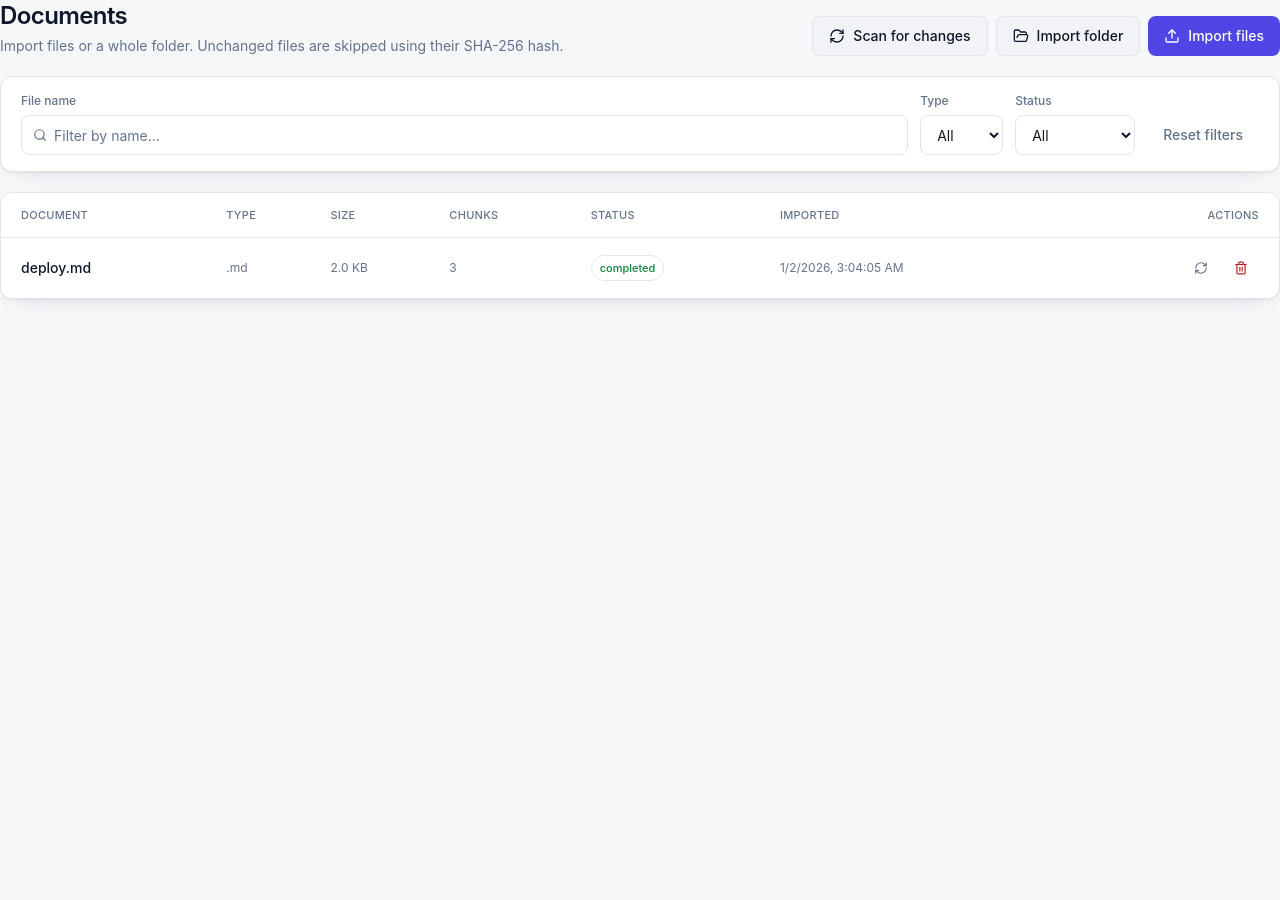
Documents page › cancelling the delete dialog keeps the document
Step 1. Click the button named "Delete deploy.md" → (1241, 268), box [1223, 250, 1259, 286]
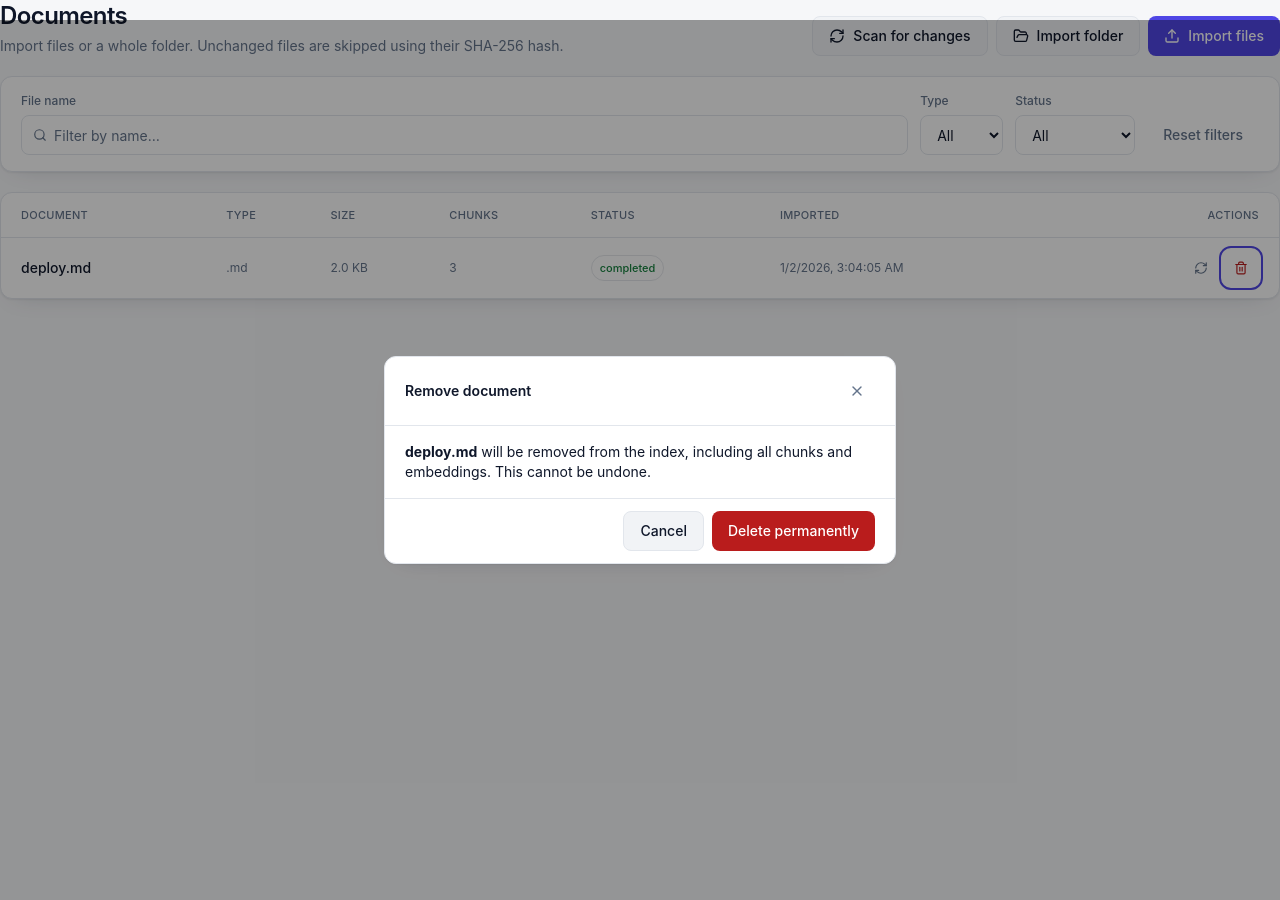
Step 2. Click the button "Cancel" → (664, 531), box [624, 511, 704, 551]
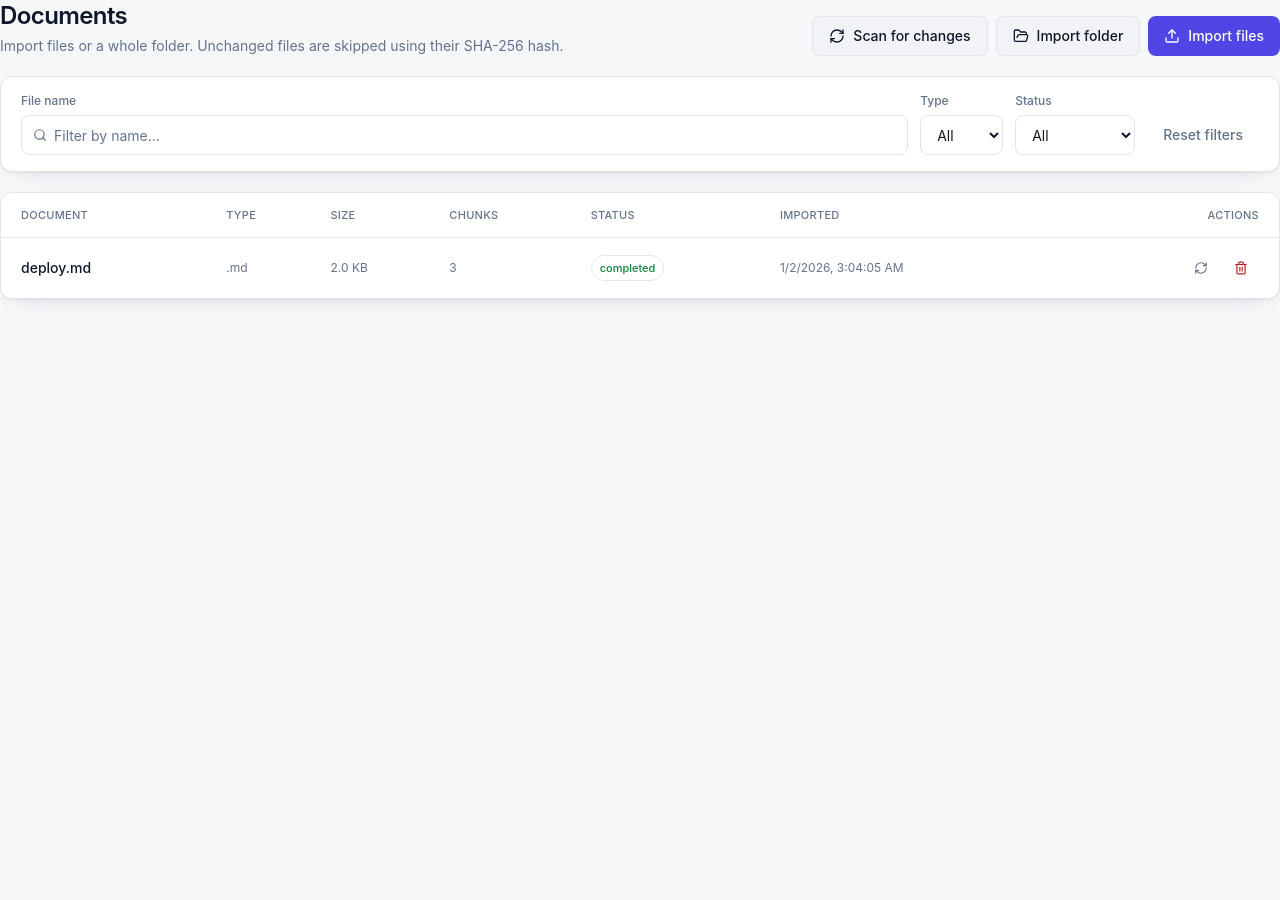
Expected: the dialog is gone
